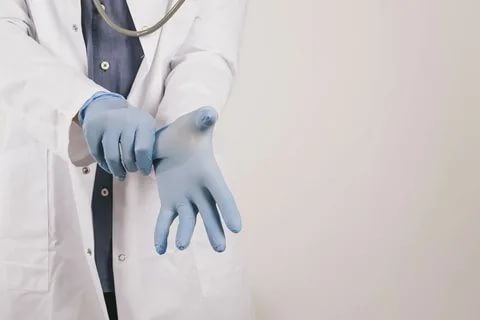gloves: (148, 105, 240, 257), (79, 87, 159, 178)
